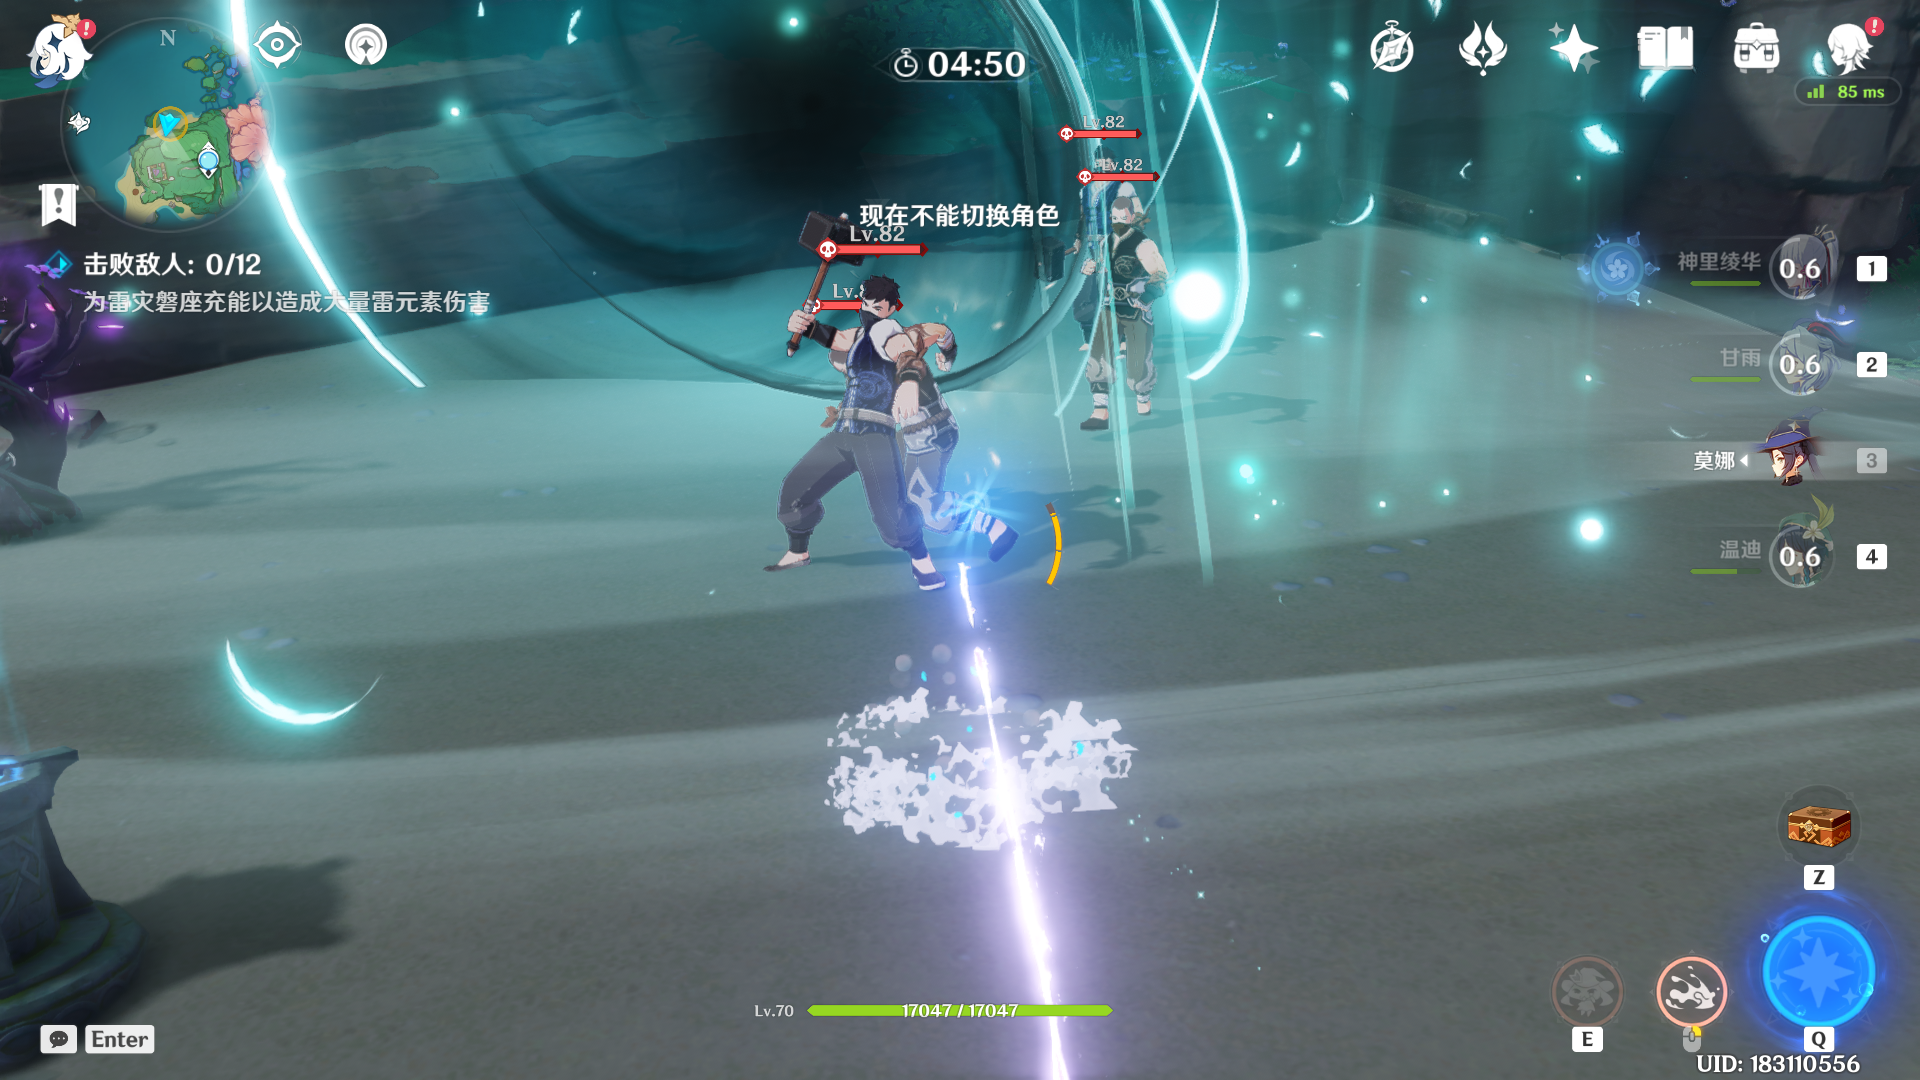robber: (748, 258, 957, 622), (1051, 174, 1211, 469)
